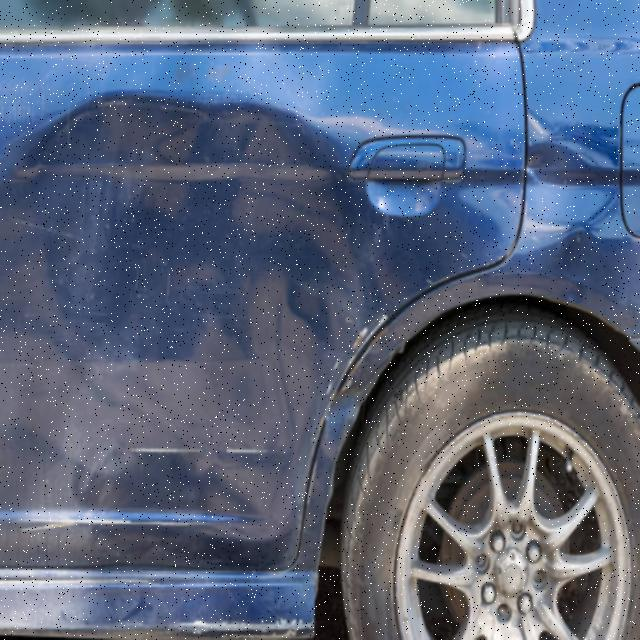RunningBoard-Dent: (0, 578, 351, 639)
doorouter-dent: (0, 36, 511, 573)
quaterpanel-dent: (508, 20, 638, 440)
